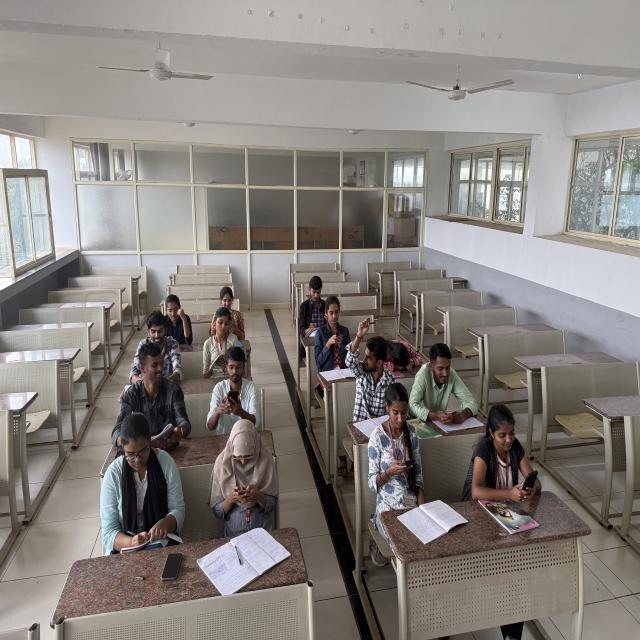Hand Rising: (347, 310, 394, 420)
Reading: (204, 302, 245, 374), (160, 292, 196, 350)
Sleeping: (382, 332, 429, 379)
Using Phone: (205, 416, 284, 532), (471, 400, 543, 504), (372, 382, 426, 509), (414, 344, 477, 426), (203, 342, 265, 421), (314, 294, 354, 368), (208, 287, 248, 337)
Writing: (100, 407, 194, 557), (297, 274, 329, 337)
